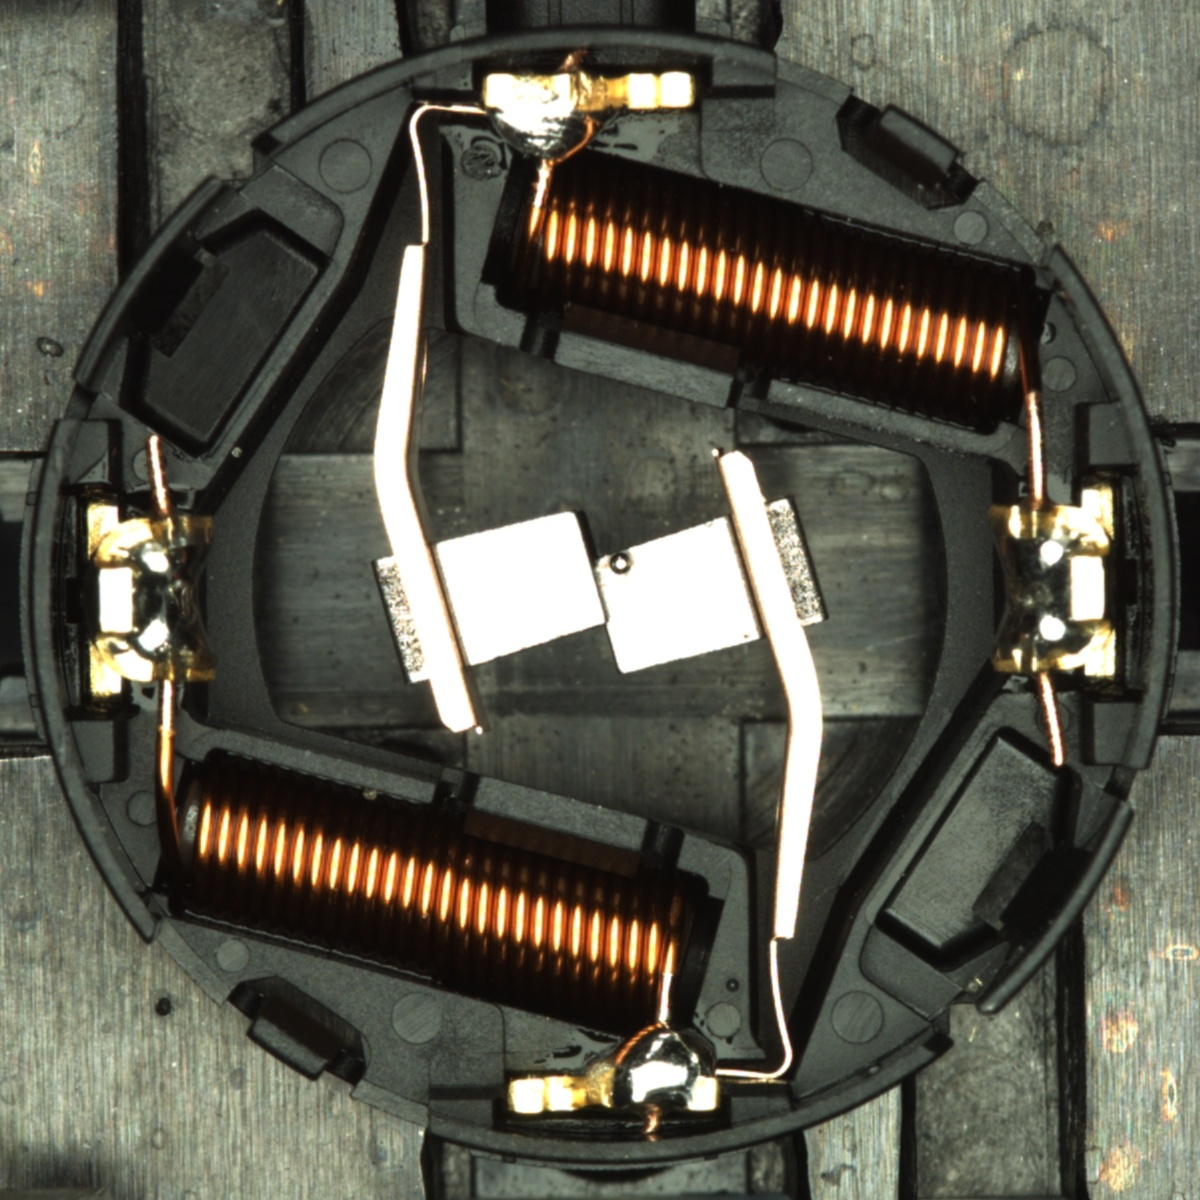1: (258, 55, 487, 279), (716, 953, 945, 1177)
2: (716, 55, 945, 279), (258, 953, 487, 1177)
3: (28, 279, 258, 504), (945, 728, 1175, 953)
4: (258, 279, 487, 504), (716, 728, 945, 953)
5: (487, 167, 716, 392), (487, 840, 716, 1065)
6: (716, 279, 945, 504), (258, 728, 487, 953)
7: (945, 279, 1175, 504), (28, 728, 258, 953)
bui_chi: (609, 552, 632, 576)
chau_dien: (79, 498, 220, 698), (983, 485, 1123, 685)
tay_choi: (480, 69, 700, 170), (507, 1019, 722, 1117)
thanh_de: (954, 786, 1141, 1030), (59, 164, 244, 404)
